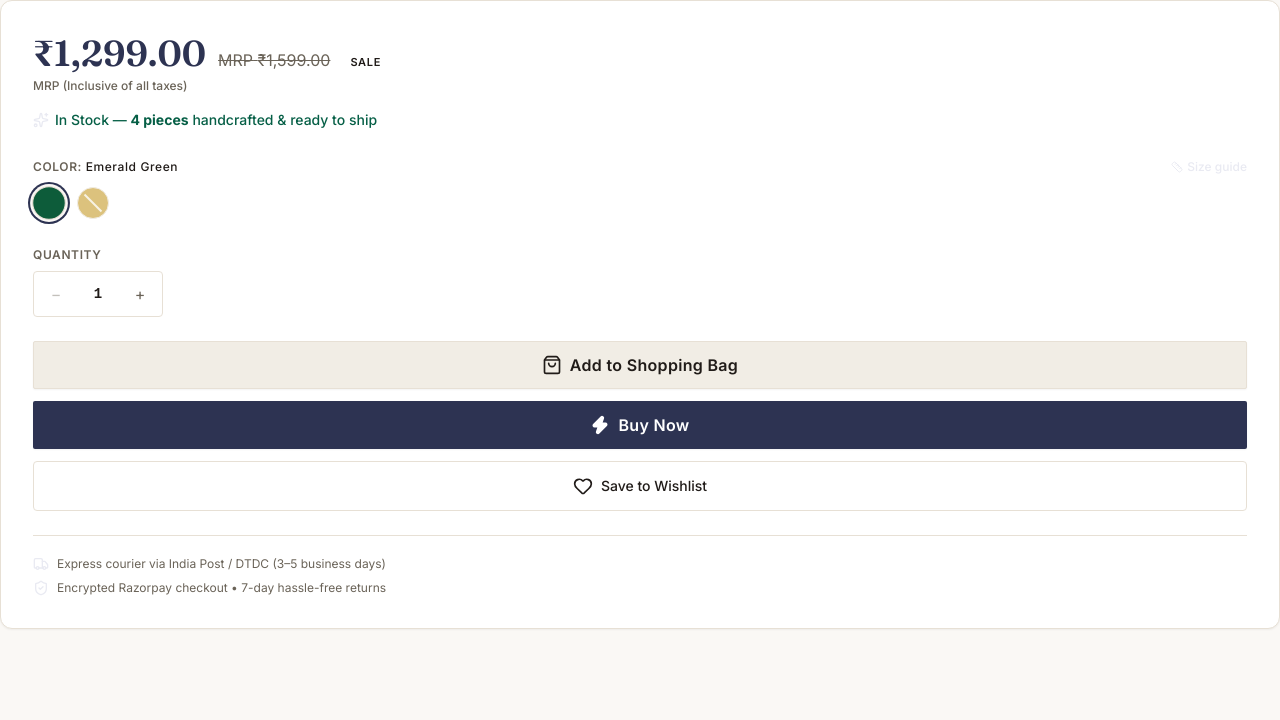
it: ProductPurchaseCard Component › allows switching variants and updates price and stock status
The image size is (1280, 720).
// Click Royale Gold variant (sold out)
Click the button named "Royale Gold".
click(93, 203)  # box x1=77 y1=187 x2=109 y2=219
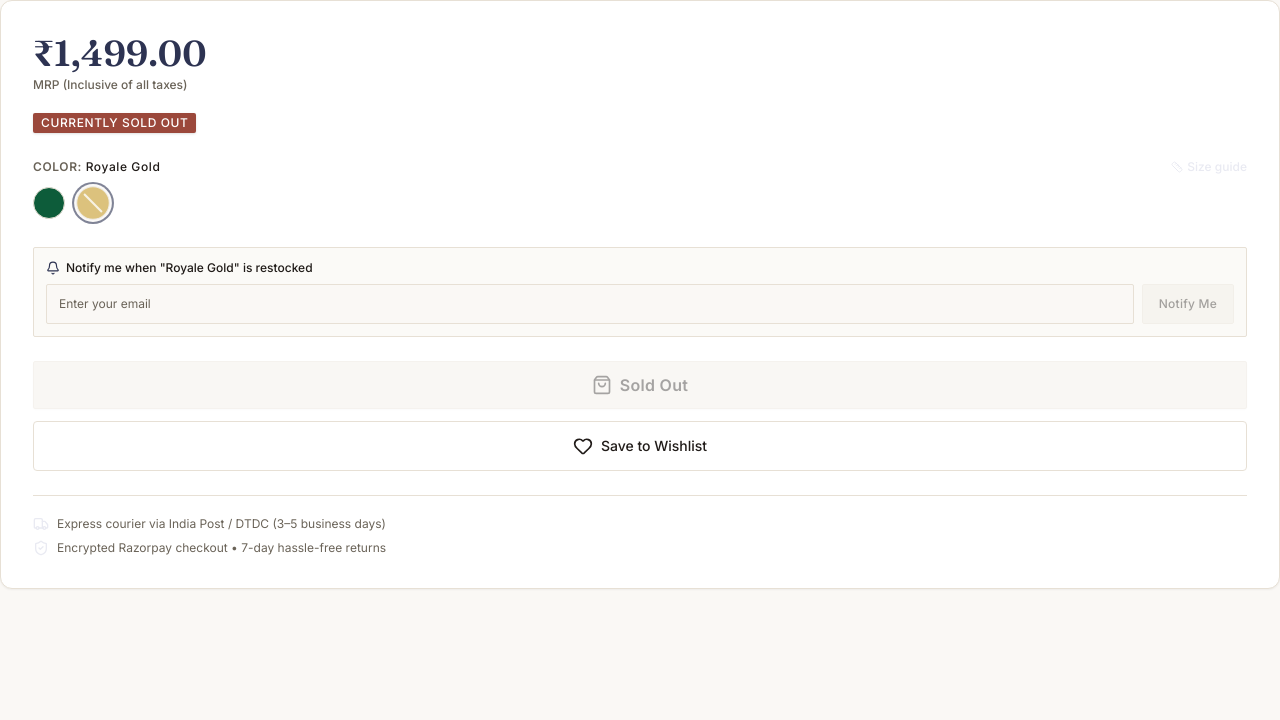
Result: the text "₹1,499.00" is shown at x1=33 y1=33 x2=206 y2=73
Result: the text "Currently Sold Out" is shown at x1=33 y1=113 x2=196 y2=133
Result: the button "Sold Out" is disabled at x1=33 y1=361 x2=1247 y2=409
